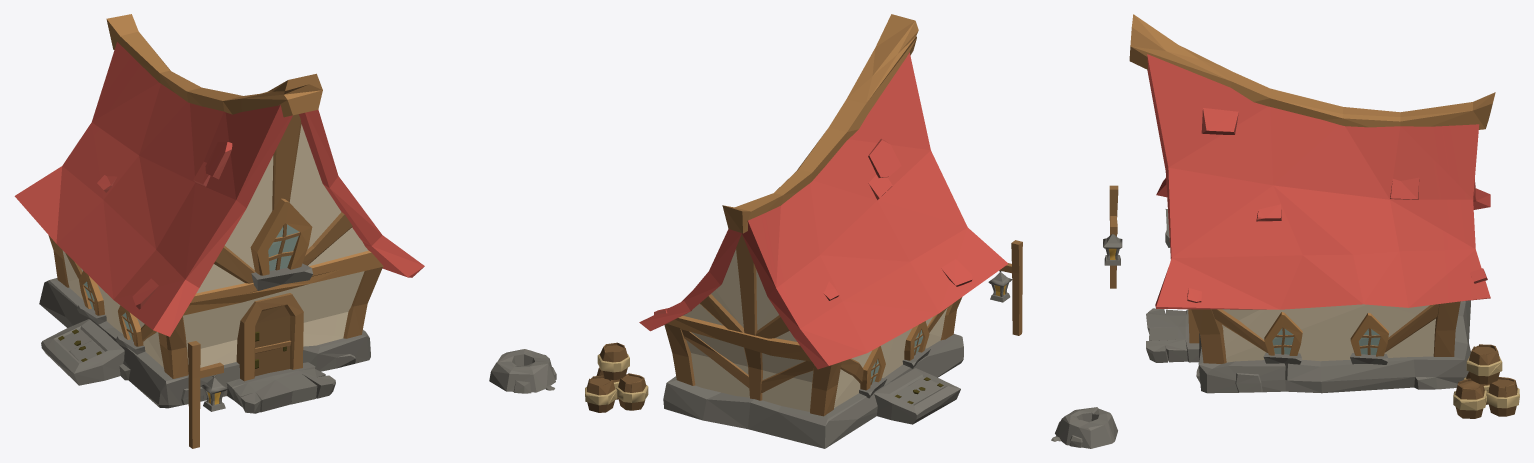
File: house_1_high.FBX
The picture shows the model from 3 angles, left to right: view 1: azimuth 30°, elevation 25°; view 2: azimuth 150°, elevation 25°; view 3: azimuth 270°, elevation 25°; orthographic projection. The views are drawn at different scales.
Visible parts, largest first — view 1: house_1_high, house_1_high_deng; view 2: house_1_high; view 3: house_1_high, house_1_high_deng.
Boxes of the visible parts, left/top/right/bottom form: house_1_high: left=14, top=14, right=556, bottom=448; house_1_high_deng: left=83, top=224, right=299, bottom=404; house_1_high: left=585, top=14, right=1022, bottom=448; house_1_high: left=1051, top=14, right=1519, bottom=448; house_1_high_deng: left=1109, top=248, right=1380, bottom=354.
Size of the model in its own units: 464 by 396 by 522.
